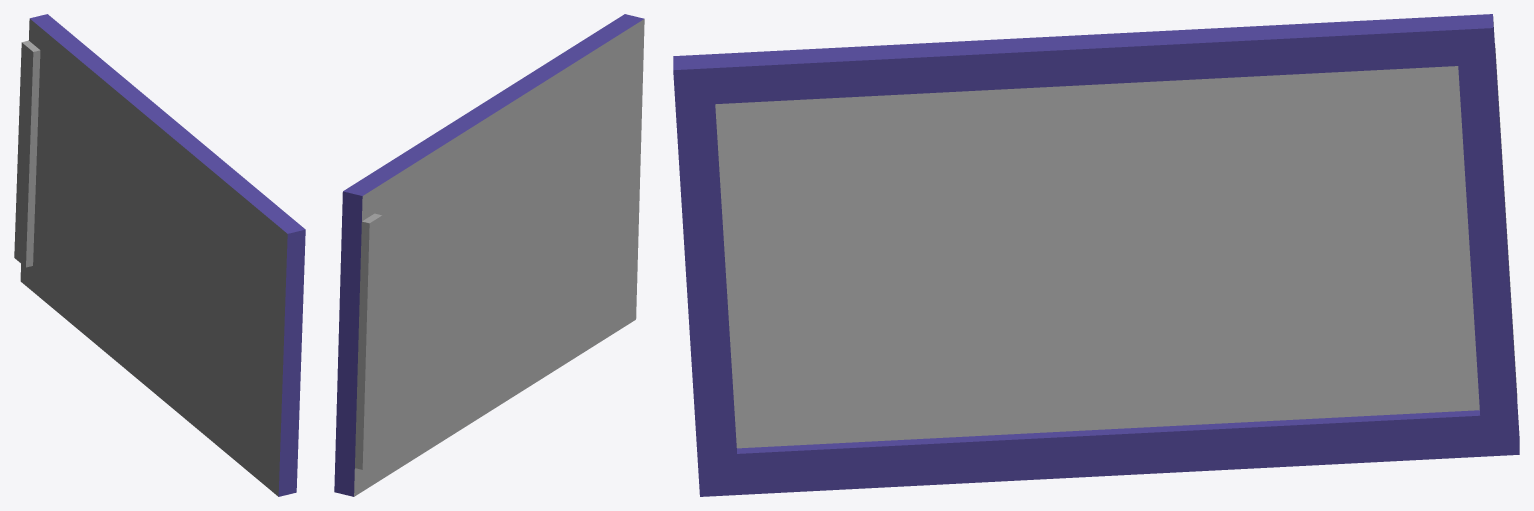
The model's file is Tableau_Bibli01.fbx.
3 views of the same model, side by side, from view 1: azimuth 30°, elevation 25°; view 2: azimuth 150°, elevation 25°; view 3: azimuth 270°, elevation 25° (orthographic). The views are drawn at different scales.
Parts seen in each view (by area): view 1: Tableau; view 2: Tableau; view 3: Tableau.
Boxes of the visible parts, x1=… form: Tableau: x1=14, y1=14, x2=305, y2=496; Tableau: x1=334, y1=14, x2=644, y2=496; Tableau: x1=673, y1=14, x2=1519, y2=496.
Bounding box in the file's own units: 23.85 × 262 × 428.
